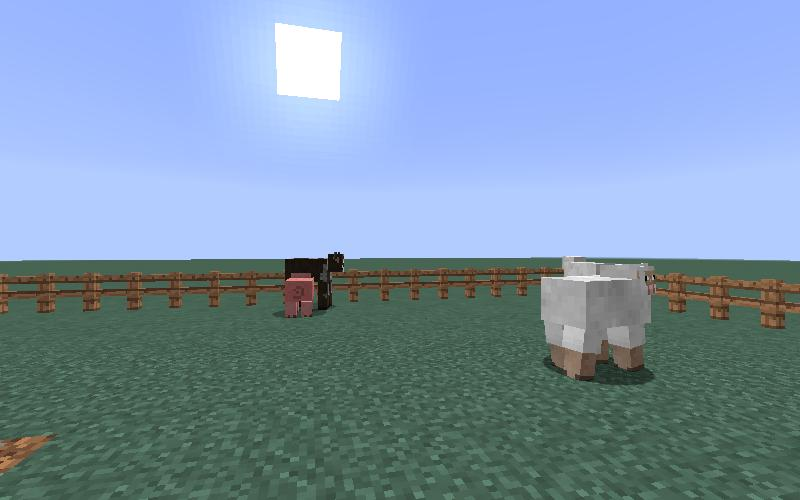cow: (283, 253, 346, 279)
pig: (279, 271, 316, 320)
sheep: (529, 258, 660, 391)
